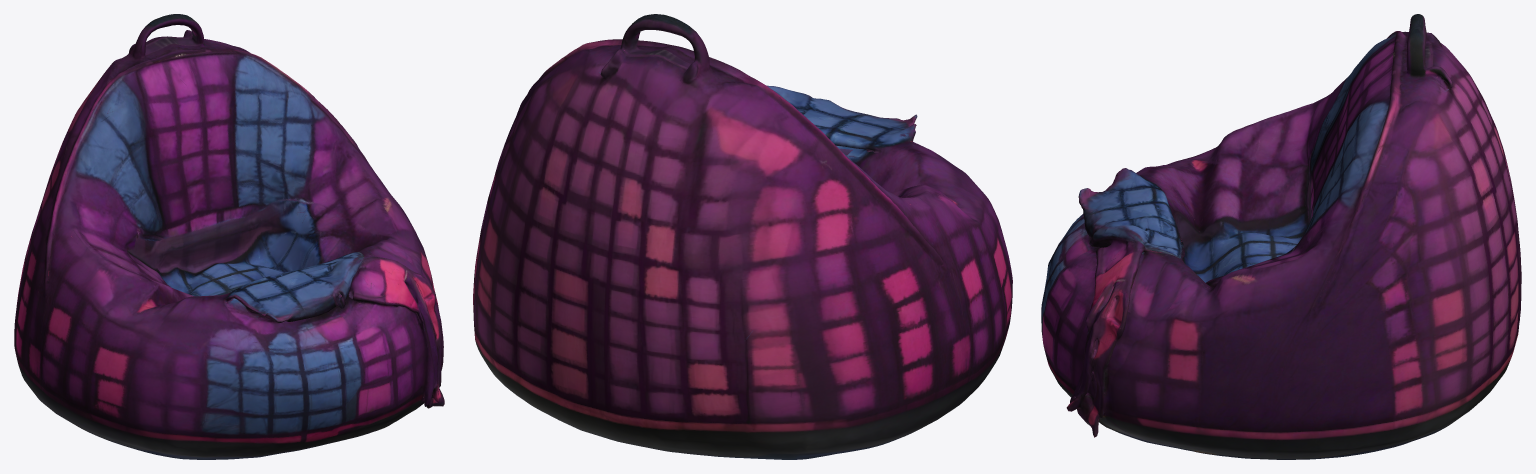
The model's file is sofa-v1.glb.
3 renders of one model, left to right at view 1: azimuth 30°, elevation 25°; view 2: azimuth 150°, elevation 25°; view 3: azimuth 270°, elevation 25°, orthographic. The views are drawn at different scales.
Bounding box in the file's own units: 1.97 × 1.67 × 2.
Materials: 1 (1 with a texture image).
